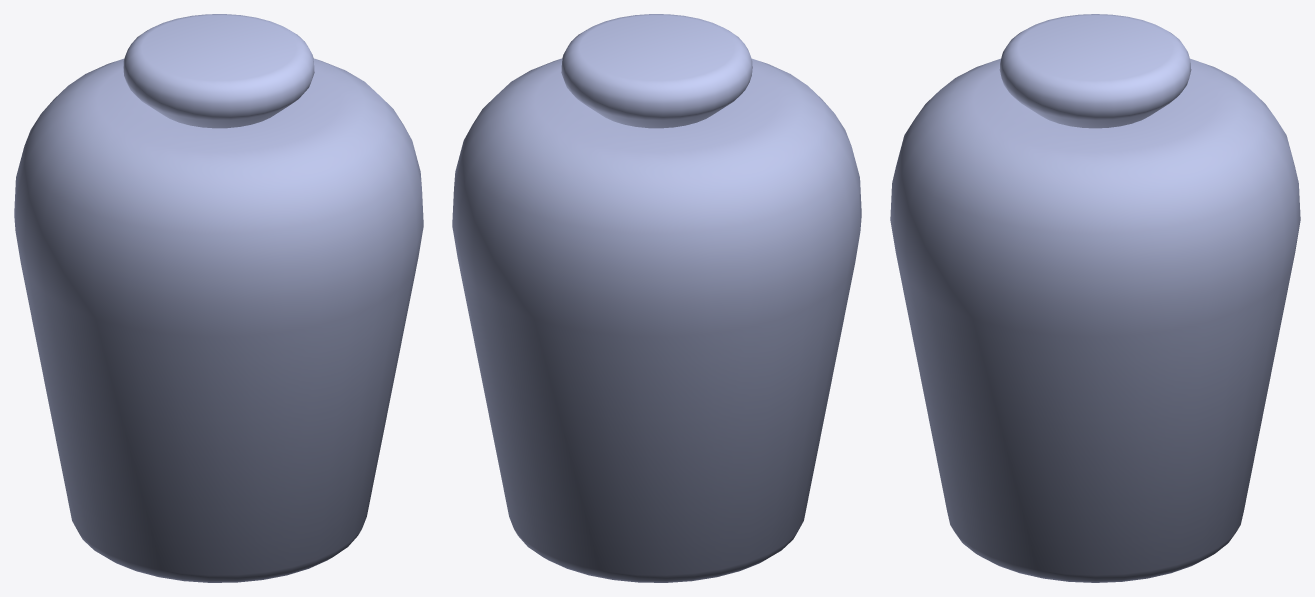
File: Pot3.fbx
3 renders of one model, left to right at view 1: azimuth 30°, elevation 25°; view 2: azimuth 150°, elevation 25°; view 3: azimuth 270°, elevation 25°, orthographic.
Parts seen in each view (by area): view 1: Pot3; view 2: Pot3; view 3: Pot3.
Boxes of the visible parts, x1,y1,x2,y2 form: Pot3: (14, 14, 423, 582); Pot3: (452, 14, 861, 582); Pot3: (890, 14, 1300, 582).
Bounding box in the file's own units: 28.98 × 37.35 × 28.98.
